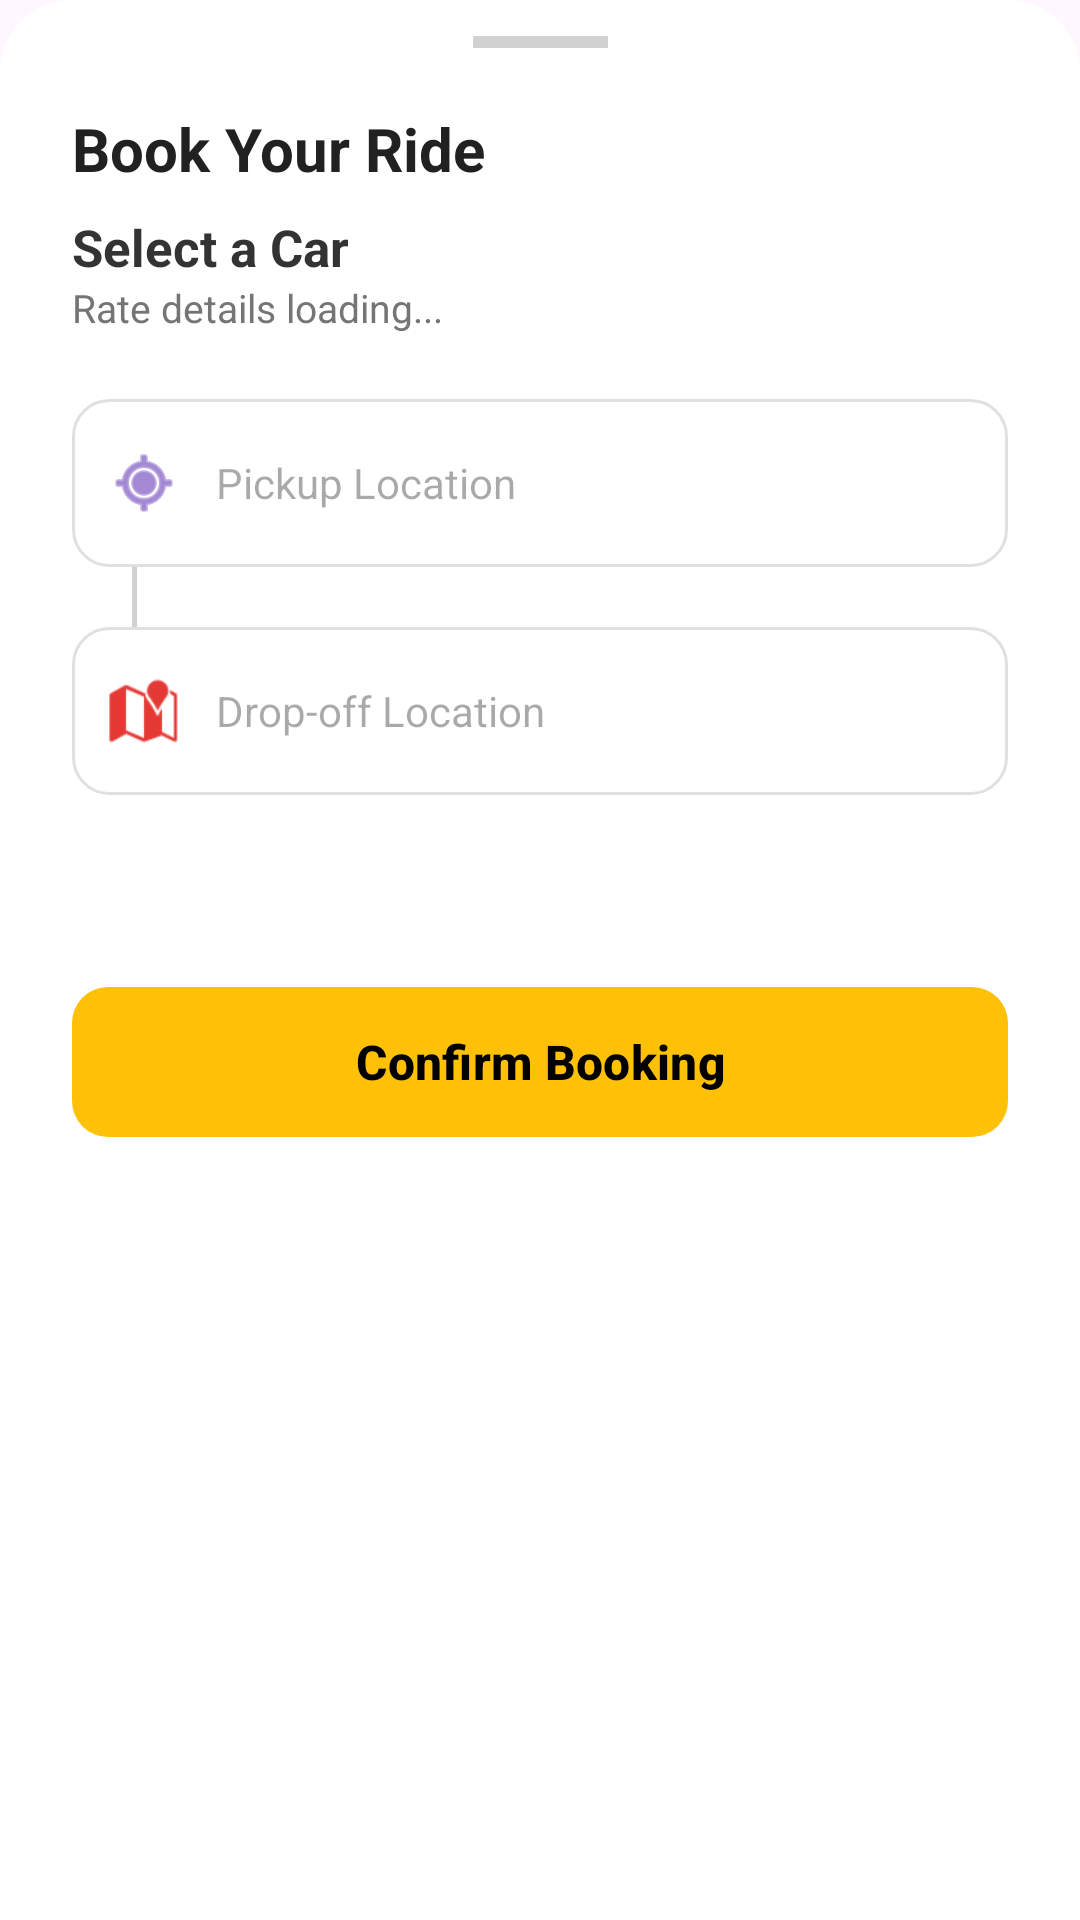

Named icons in this screenshot (1080 x 1920) and their centers, (x,y):
map: (143,711)
mylocation: (144,483)
